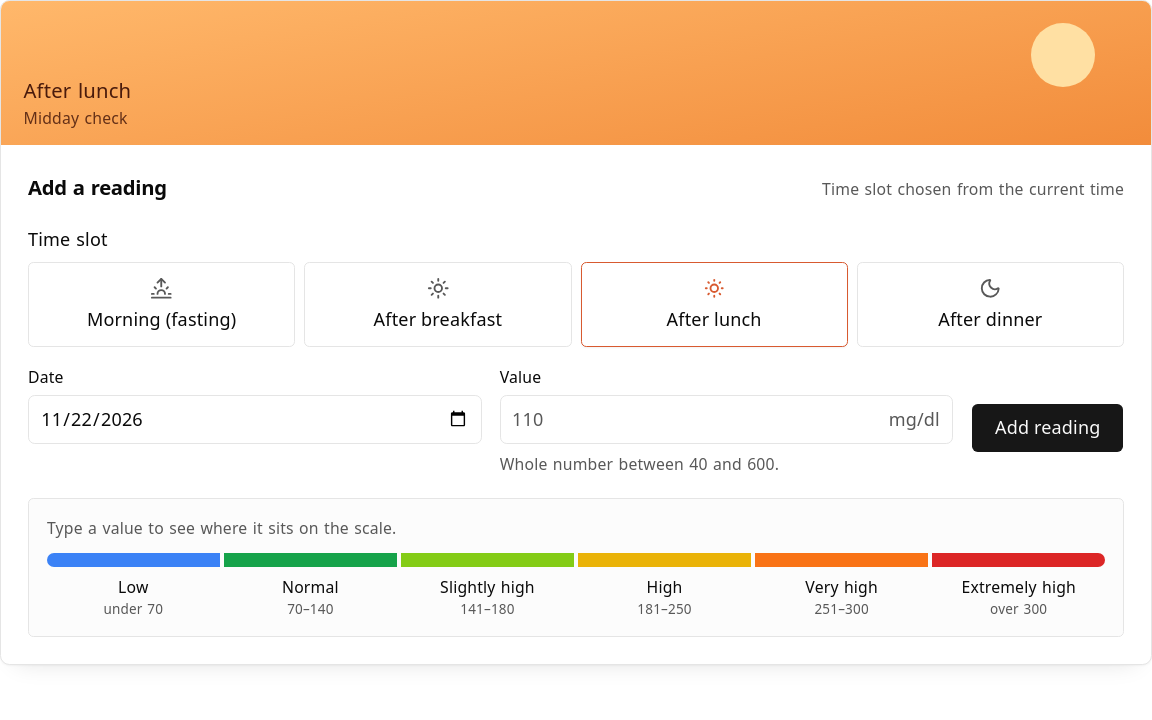
Test: AddReadingCard: saving › shows the server's duplicate-slot message under the time slots
Click the button "After lunch" at (714, 305), box [580,262,848,347]
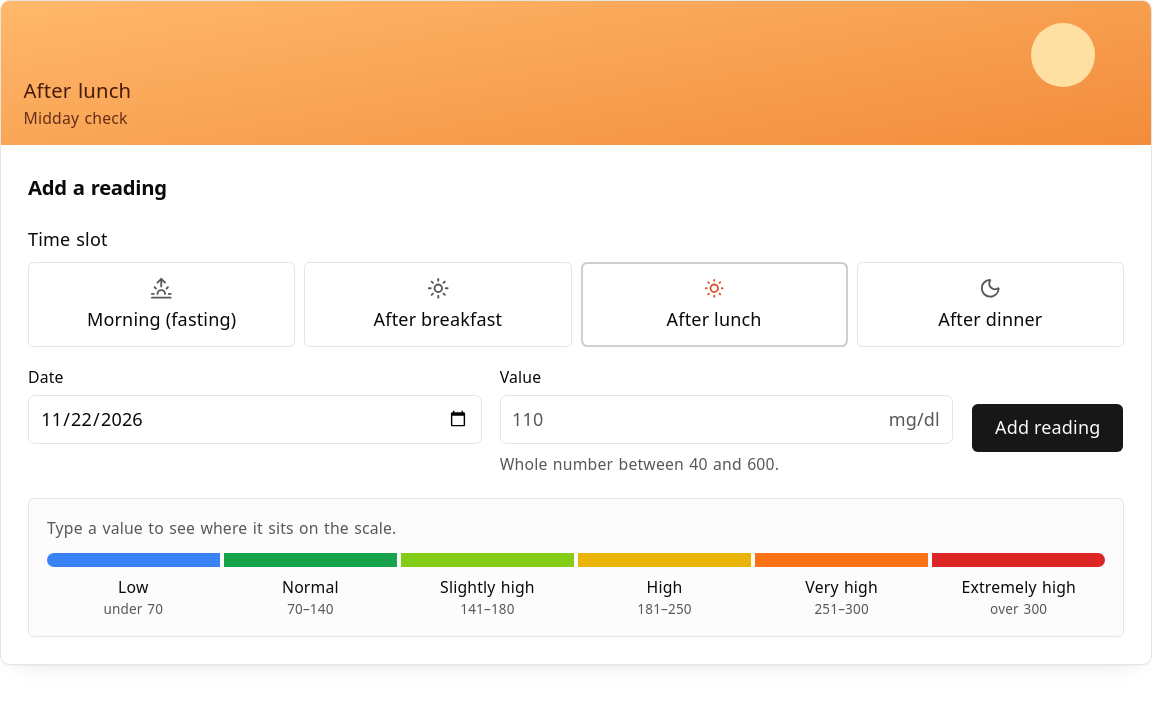
Type "150" into the field labelled "Value" at (727, 419), box [500,394,953,444]
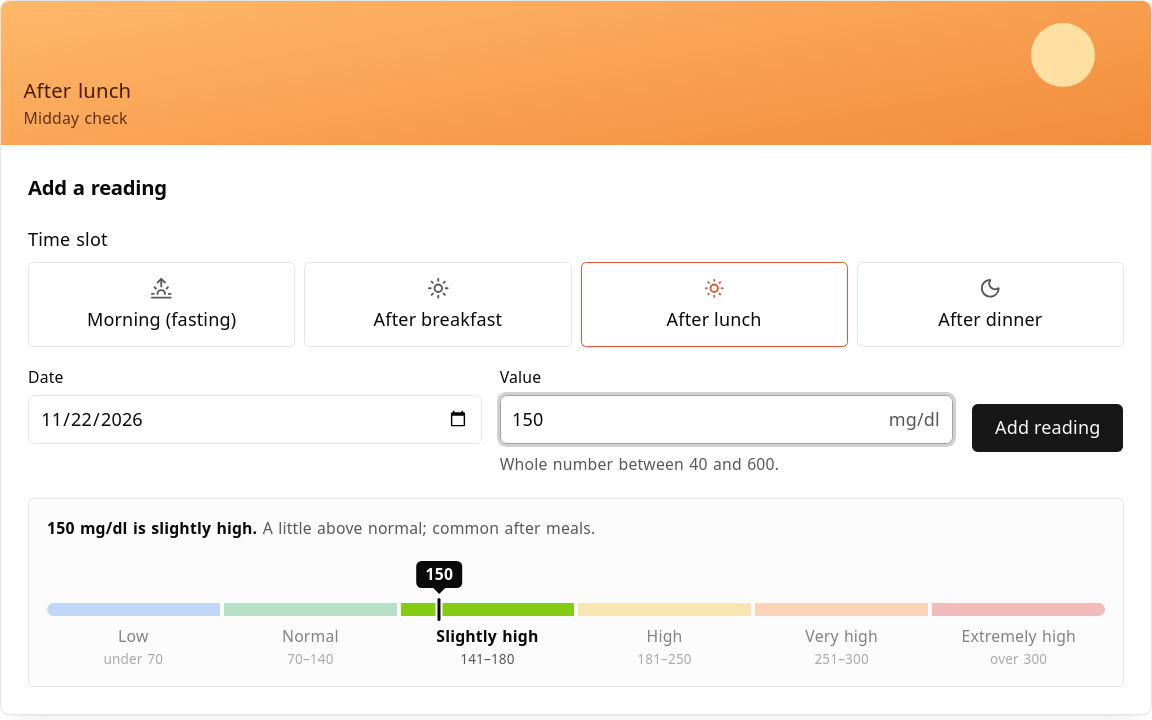
Click the button "Add reading" at (1048, 428), box [972,403,1124,452]
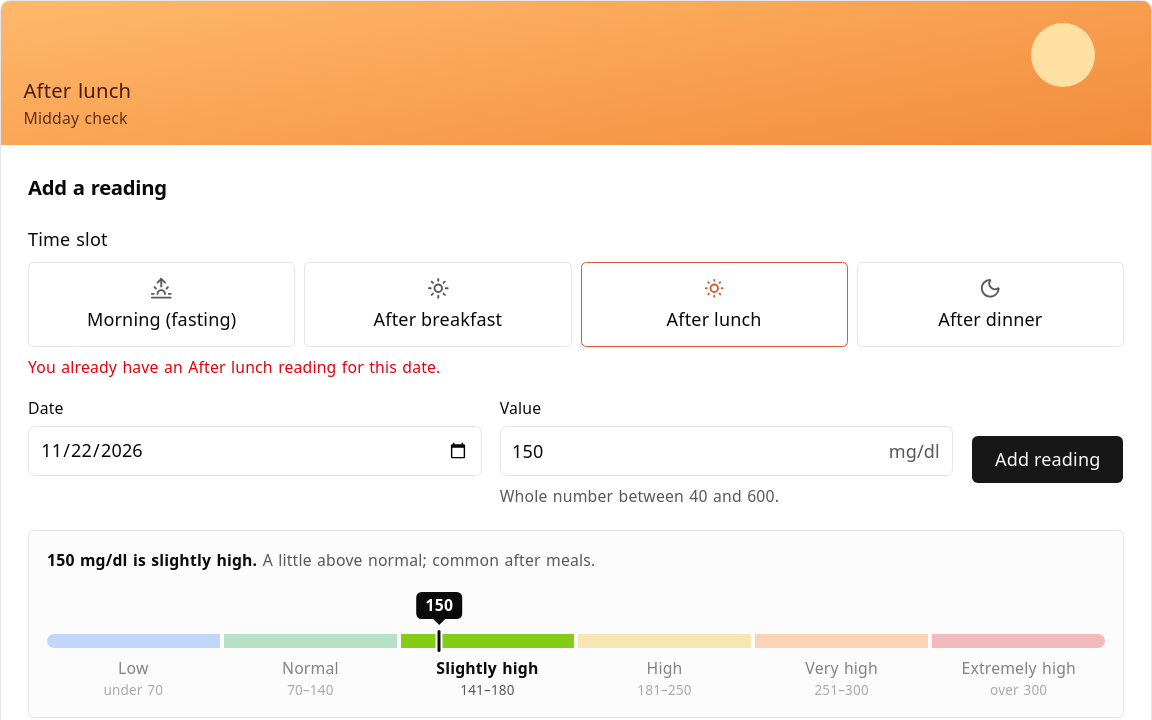
Expected: the text "You already have an After lunch reading for this date." is shown, [28,356,440,378]
